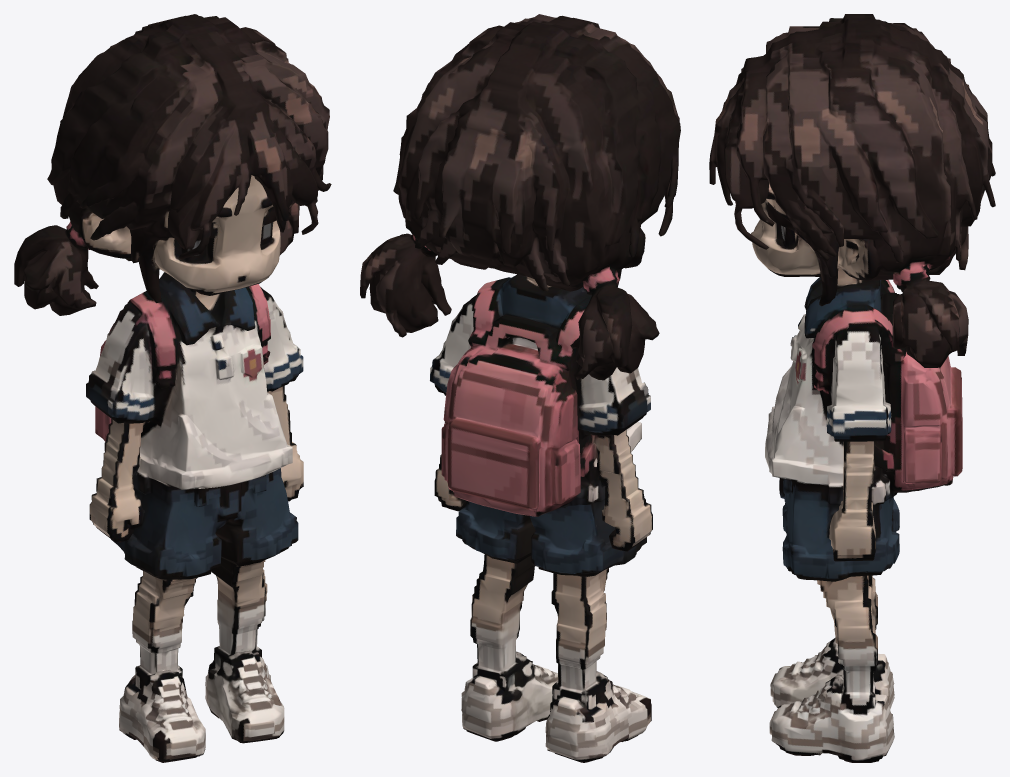
3 views of the same model, side by side, from view 1: azimuth 30°, elevation 25°; view 2: azimuth 150°, elevation 25°; view 3: azimuth 270°, elevation 25° (orthographic).
Parts seen in each view (by area): view 1: tripo_node_b5b3f97b-8069-443f-8343-48824bc9edf4; view 2: tripo_node_b5b3f97b-8069-443f-8343-48824bc9edf4; view 3: tripo_node_b5b3f97b-8069-443f-8343-48824bc9edf4.
Boxes of the visible parts, bbox=[...] form: tripo_node_b5b3f97b-8069-443f-8343-48824bc9edf4: bbox=[14, 14, 331, 762]; tripo_node_b5b3f97b-8069-443f-8343-48824bc9edf4: bbox=[360, 14, 680, 762]; tripo_node_b5b3f97b-8069-443f-8343-48824bc9edf4: bbox=[709, 14, 995, 762].
Bounding box in the file's own units: 0.3973 × 0.9783 × 0.3597.
Materials: 1 (1 with a texture image).
